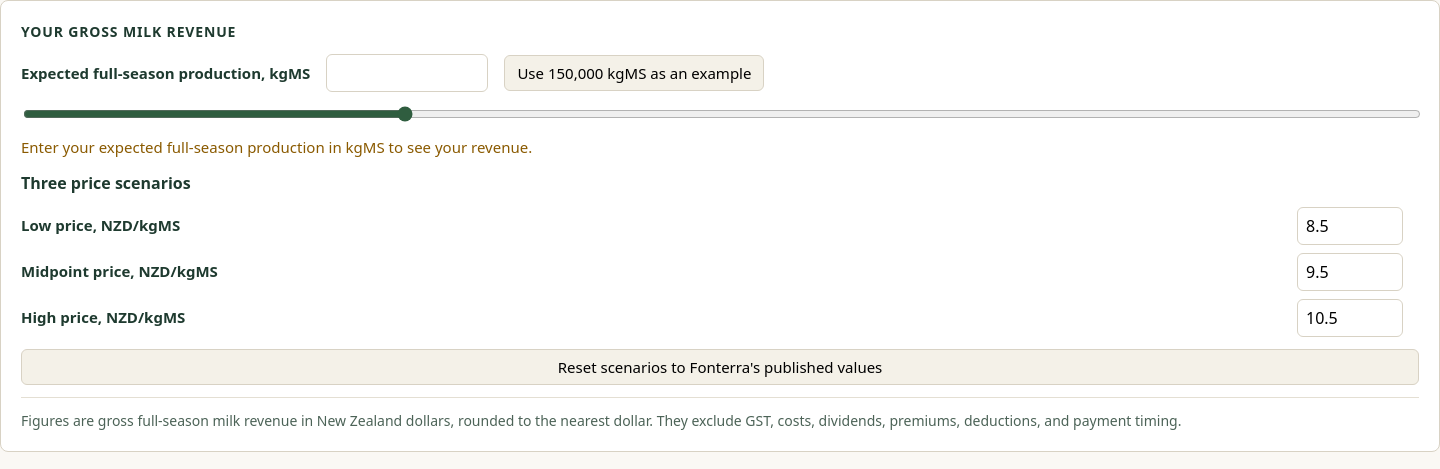
RevenuePanel › guides non-numeric input without rendering results
The width and height of the screenshot is (1440, 469).
Type "abc" into the field labelled "Expected full-season production, kgMS" at (407, 73), box top-left (326, 54), bottom-right (488, 92)
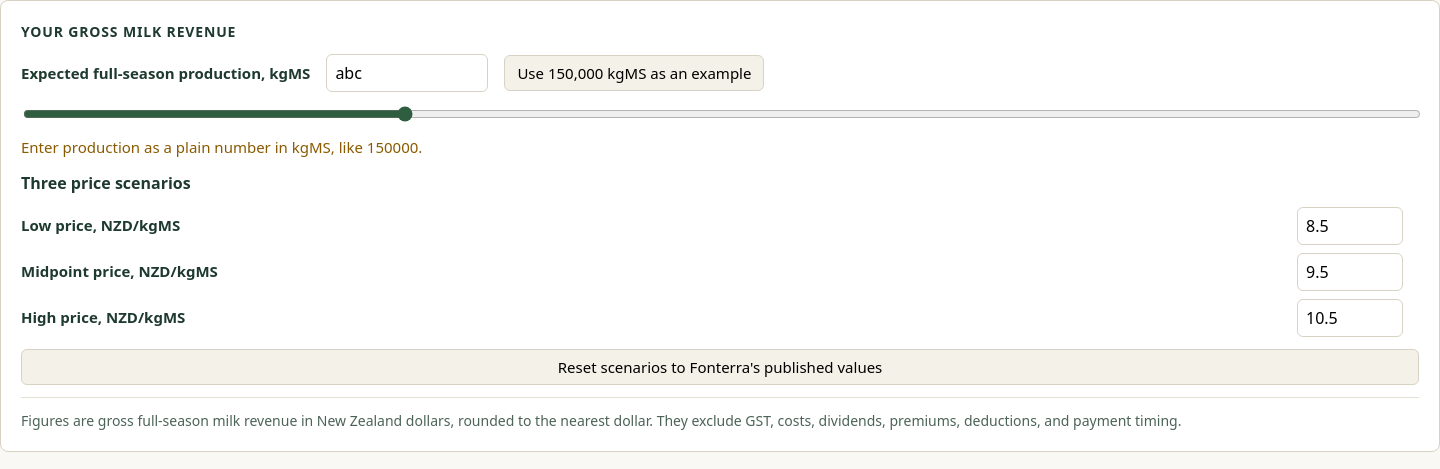
Now the text "Enter production as a plain number in kgMS, like 150000." is shown, box top-left (21, 137), bottom-right (422, 157)
